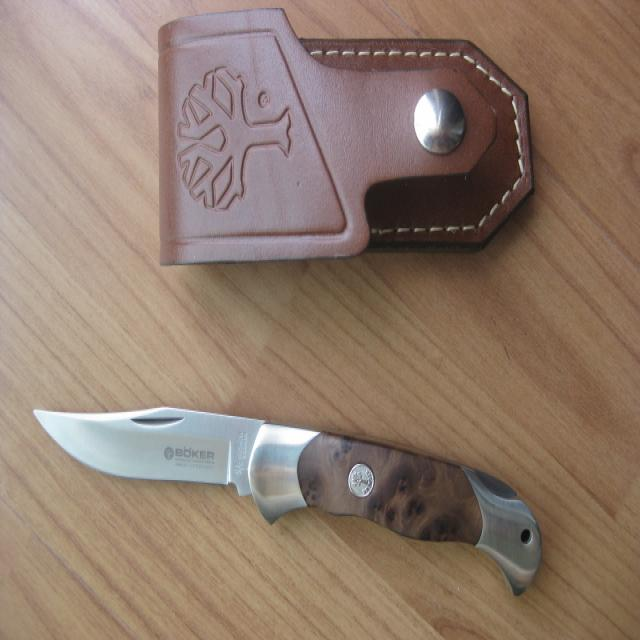knife: (25, 391, 553, 602)
